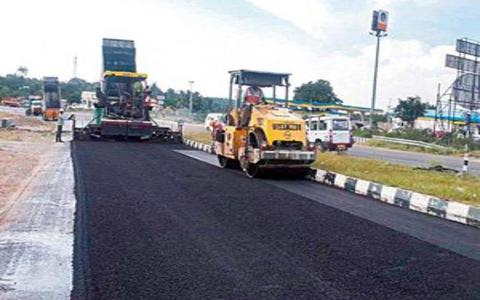Proper road: (74, 169, 377, 292)
